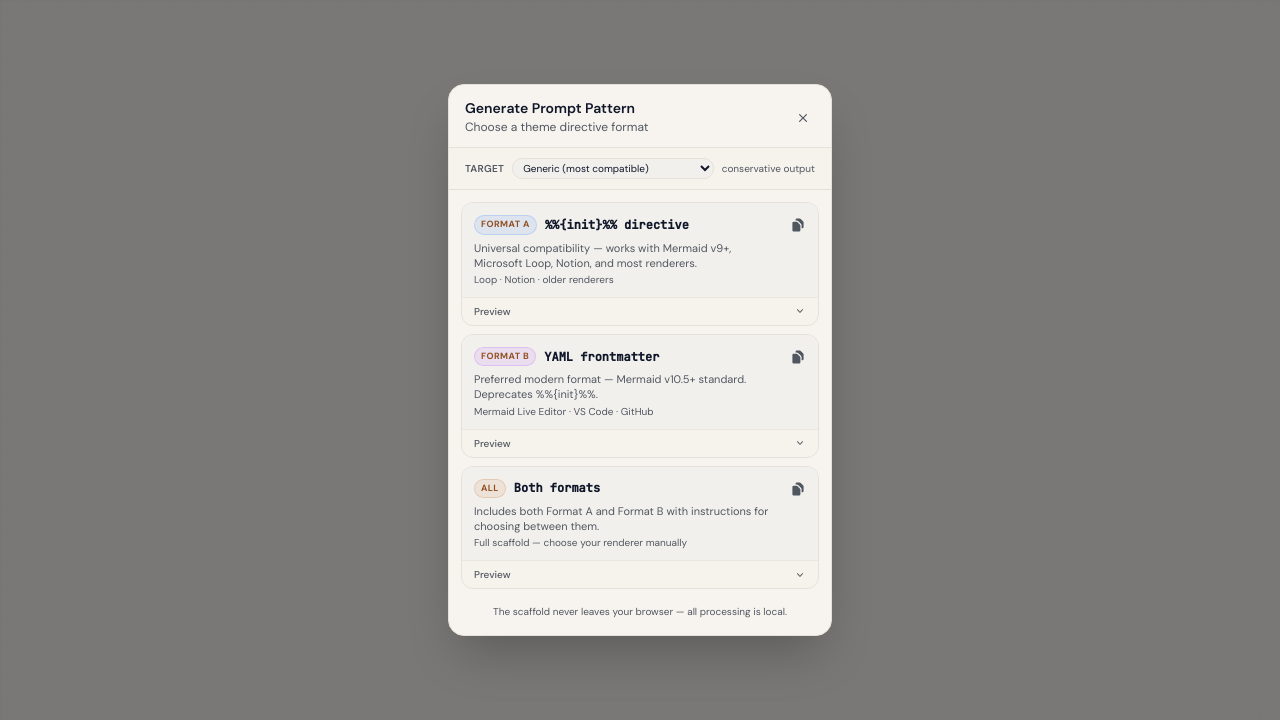
Test case: PromptScaffoldModal — Path A: main card copy button › main copy button shows 'Copied' check indicator while flash is active
Click the button that starts with "Format A".
click(640, 250)  # box [462,203,818,297]
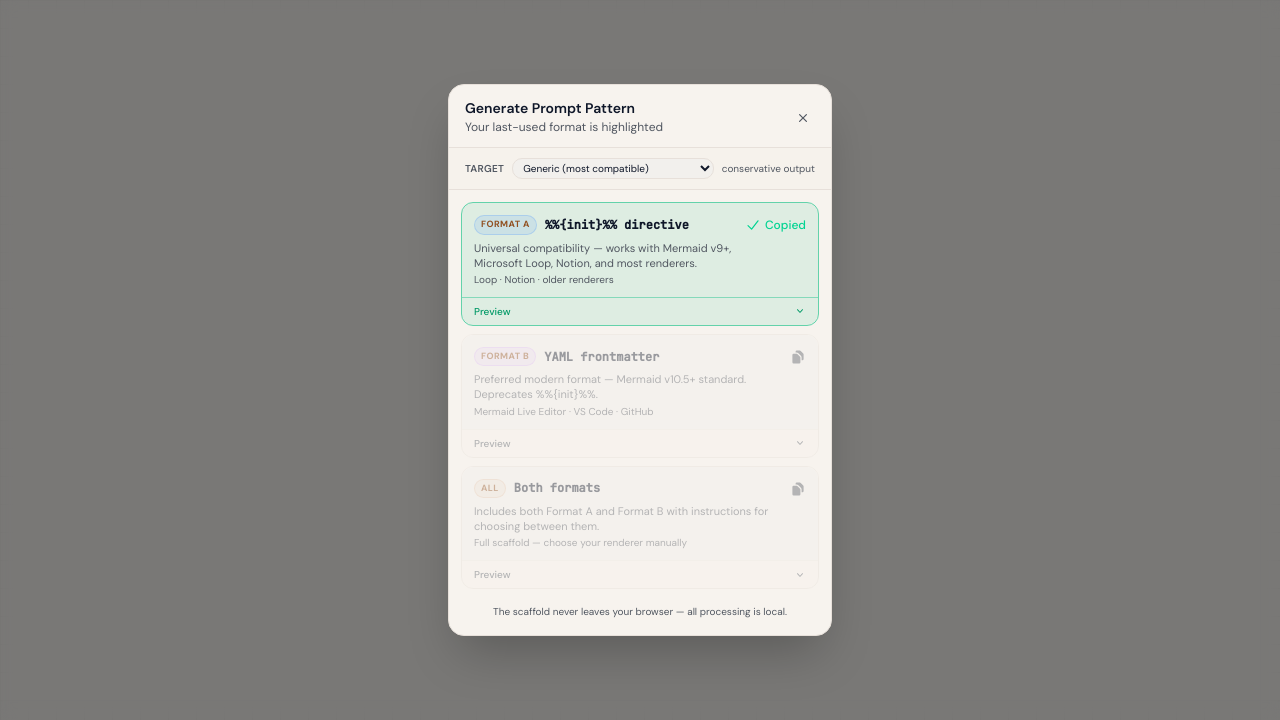
Expected: the button that starts with "Format A" shows "Copied", [462,203,818,297]
